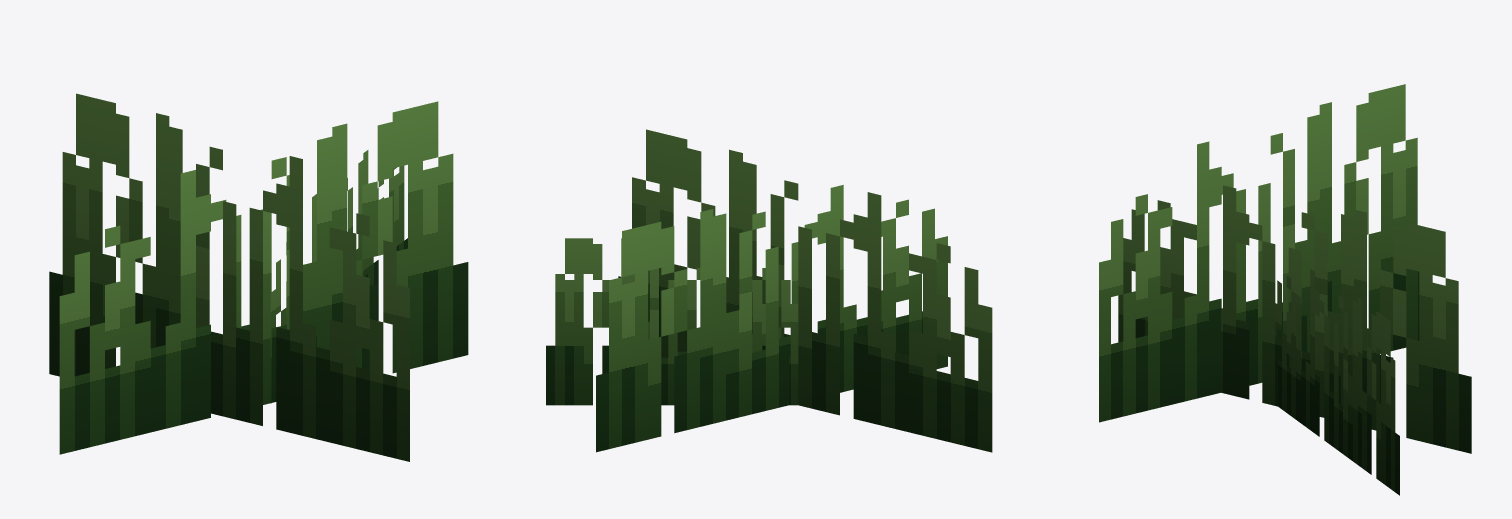
Rendered from grass_tuft.glb.
3 renders of one model, left to right at view 1: azimuth 30°, elevation 25°; view 2: azimuth 150°, elevation 25°; view 3: azimuth 270°, elevation 25°, orthographic. The views are drawn at different scales.
Parts seen in each view (by area): view 1: grass_tuft; view 2: grass_tuft; view 3: grass_tuft.
Boxes of the visible parts, x1,y1,x2,y2 form: grass_tuft: [49, 93, 468, 461]; grass_tuft: [546, 129, 992, 452]; grass_tuft: [1099, 84, 1471, 495].
Bounding box in the file's own units: 0.85 × 0.55 × 0.7212.
1 material, 1 textured.
